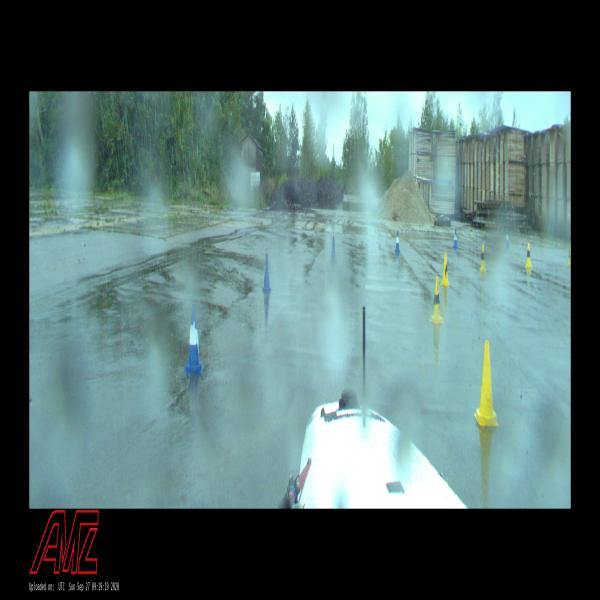blue_cone: (185, 303, 203, 376), (262, 253, 272, 294), (329, 235, 337, 265), (452, 228, 458, 250), (395, 230, 400, 253), (505, 228, 510, 249)
yellow_cone: (474, 340, 499, 427), (430, 276, 444, 324), (440, 252, 450, 287), (480, 243, 487, 273), (525, 243, 532, 268), (567, 242, 571, 265)
